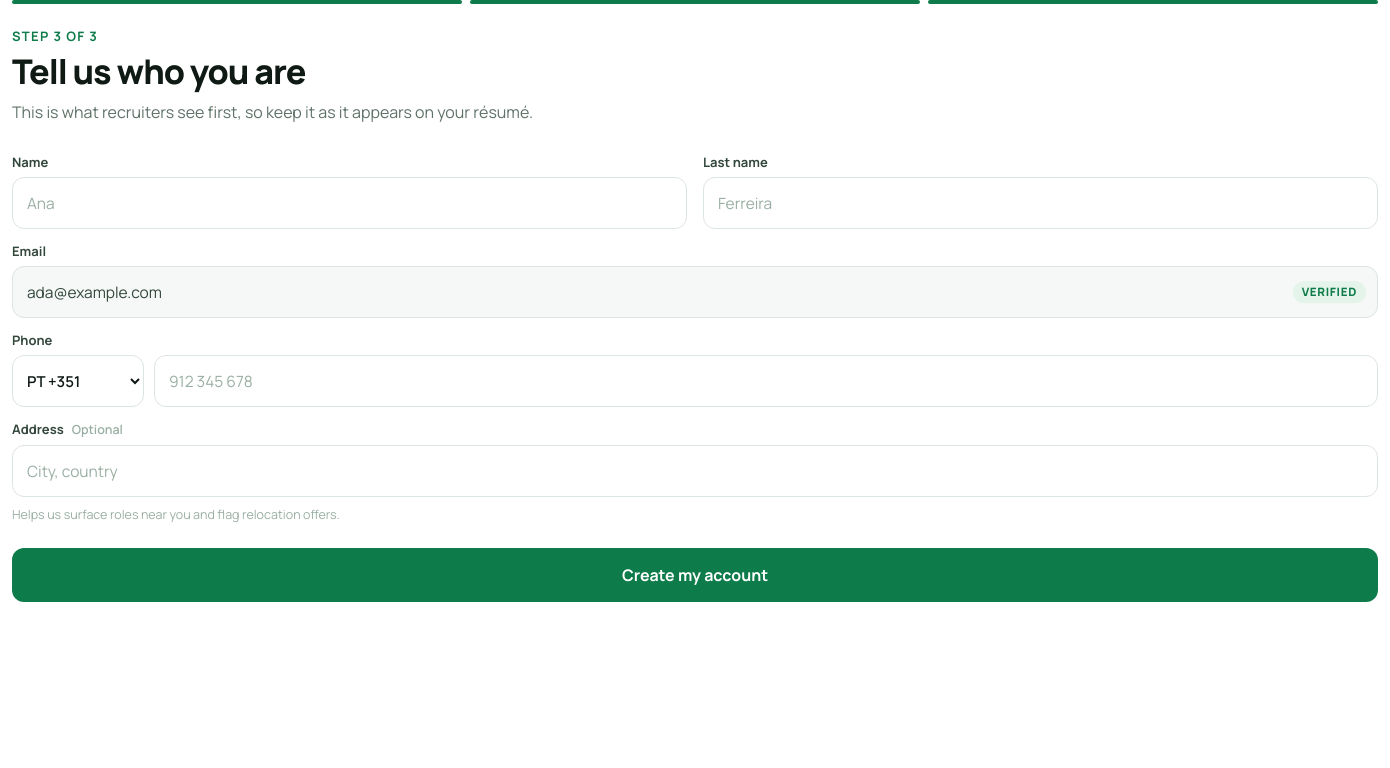
Test: IdentityForm › requires the name, the last name, and a reachable phone number before submitting
Type "12" into the field labelled "Phone".
click(766, 381); type("12")  # box [154,355,1378,407]
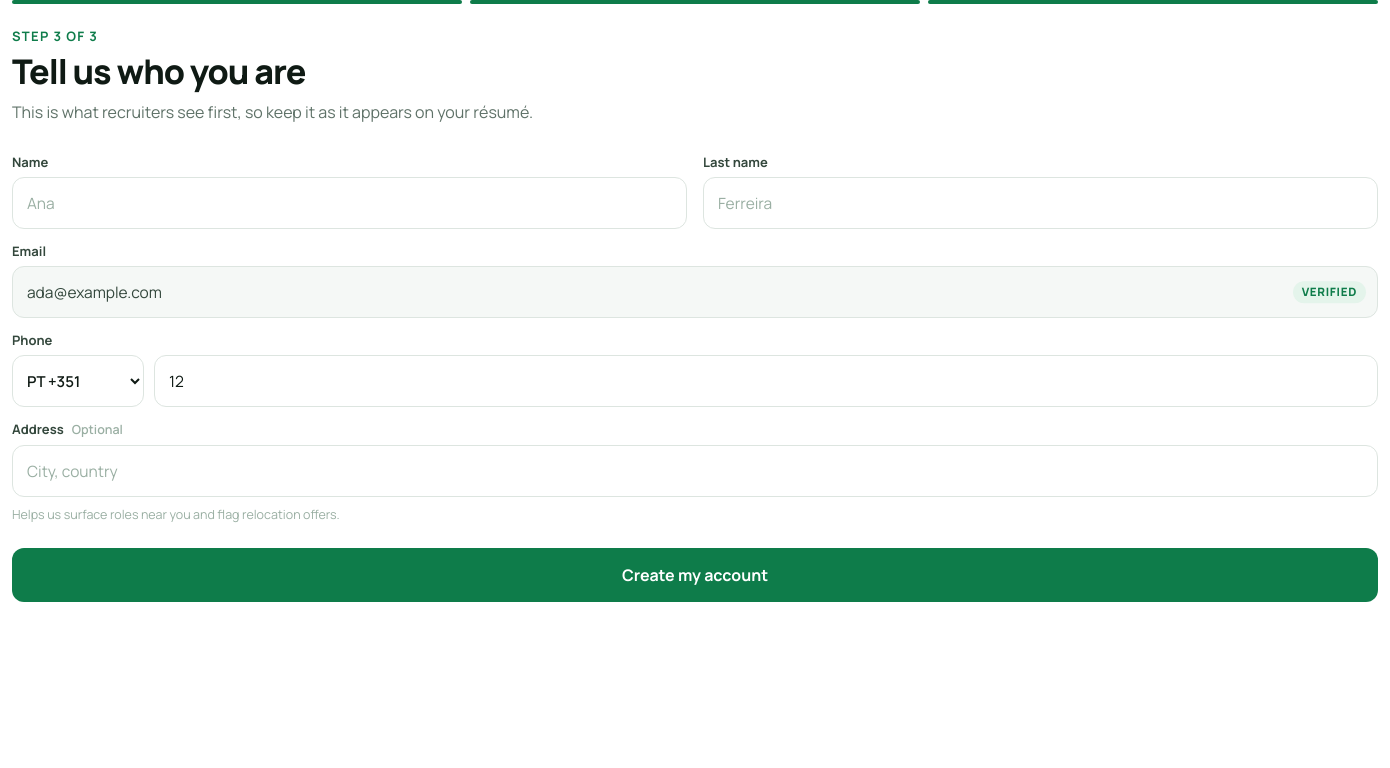
Click the button "Create my account".
click(695, 575)  # box [12,548,1378,602]
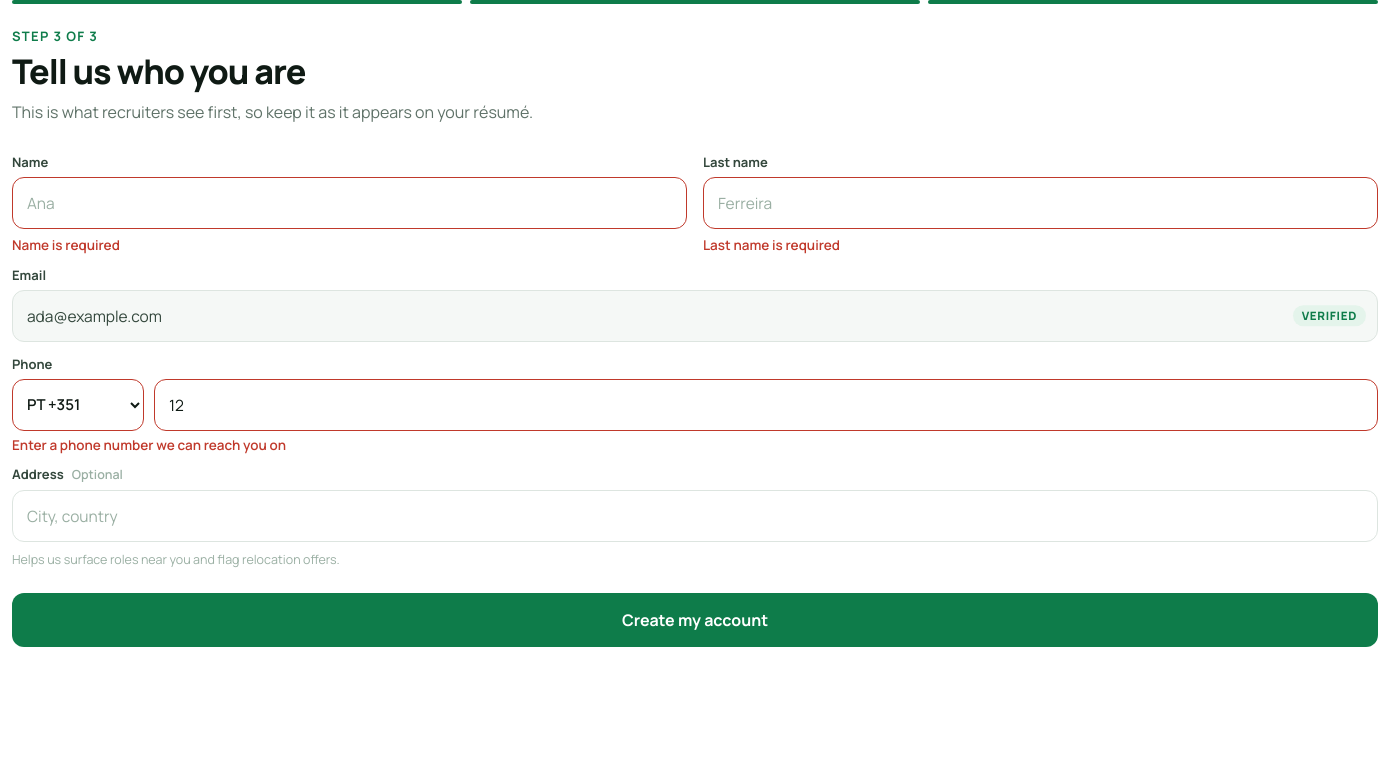
Expected: the messages read "Name is required", "Last name is required", "Enter a phone number we can reach you on", in this order, [12,236,120,254]; [703,236,840,254]; [12,436,286,454]
